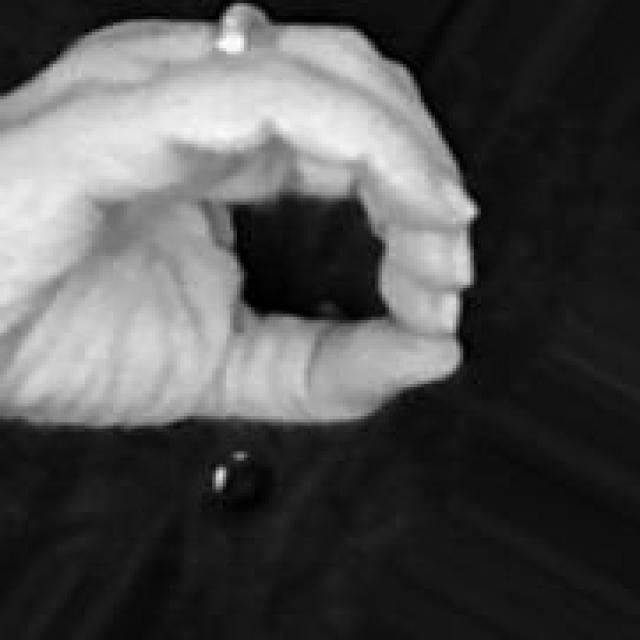O: (0, 1, 484, 446)
